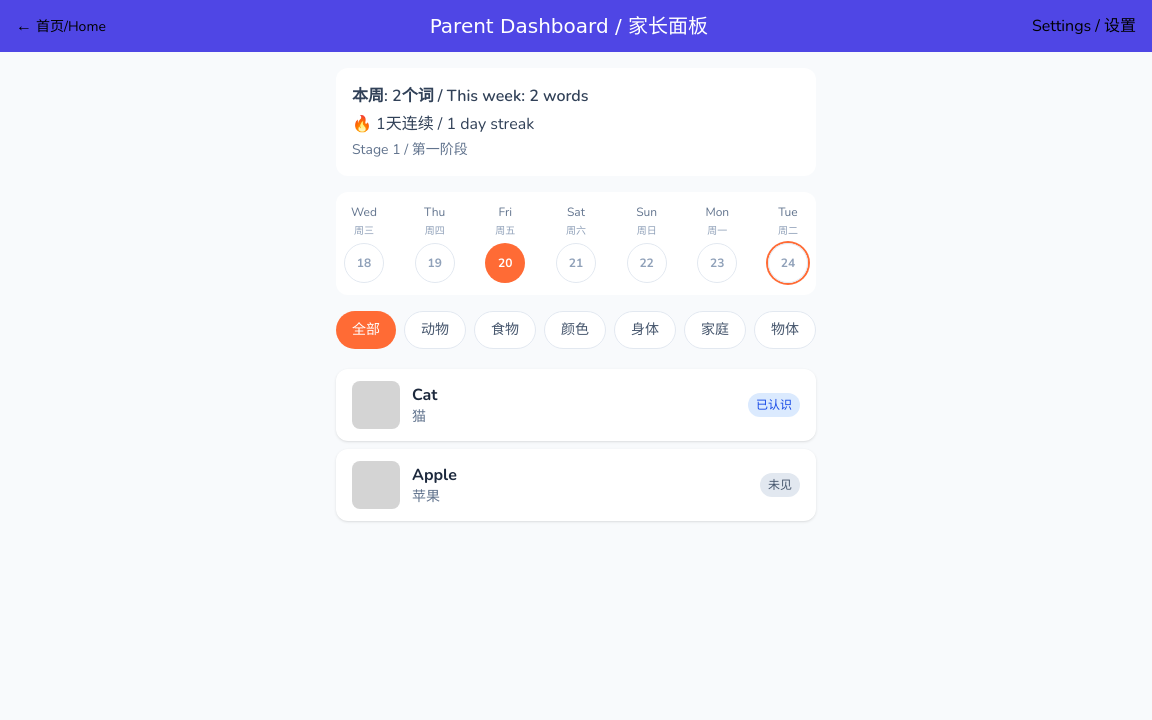
ParentDashboard › filters word list by category
Step 1. Click the button "动物" → coordinates (435, 330), box x1=404 y1=311 x2=466 y2=349
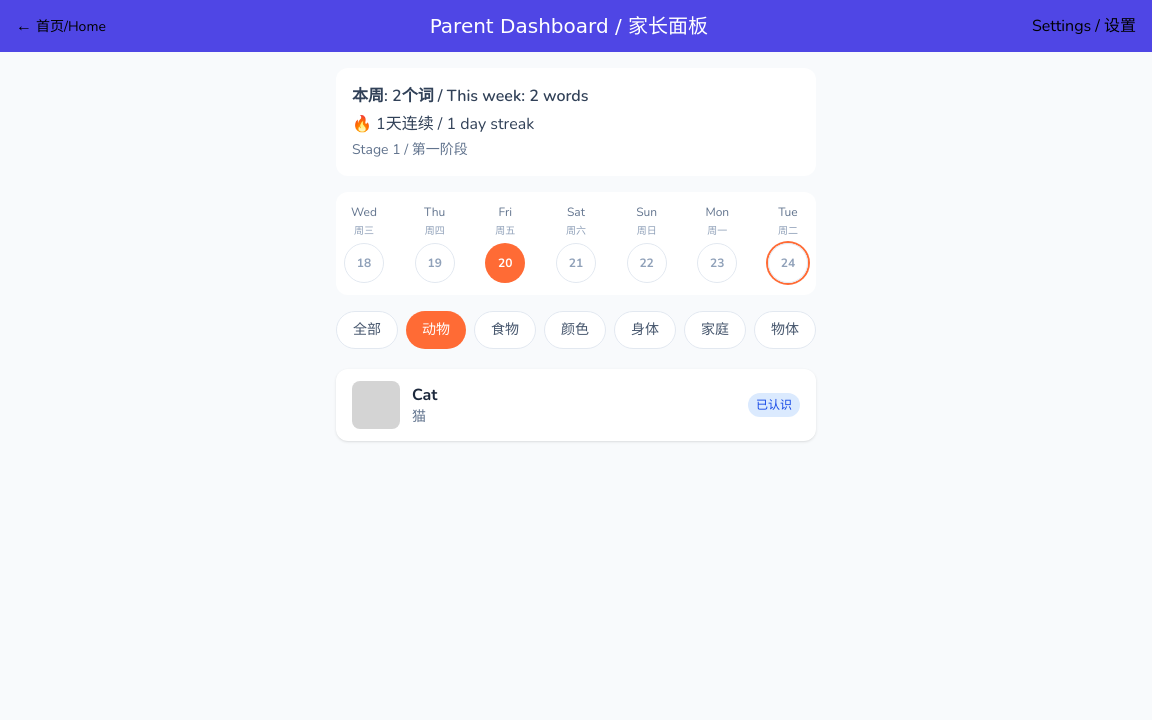
expect the text "Cat" is shown: met, box x1=412 y1=384 x2=438 y2=406
expect the number of buttons with test id "word-row" is 1: met, box x1=336 y1=369 x2=816 y2=441
expect the button "Apple" is gone: met
